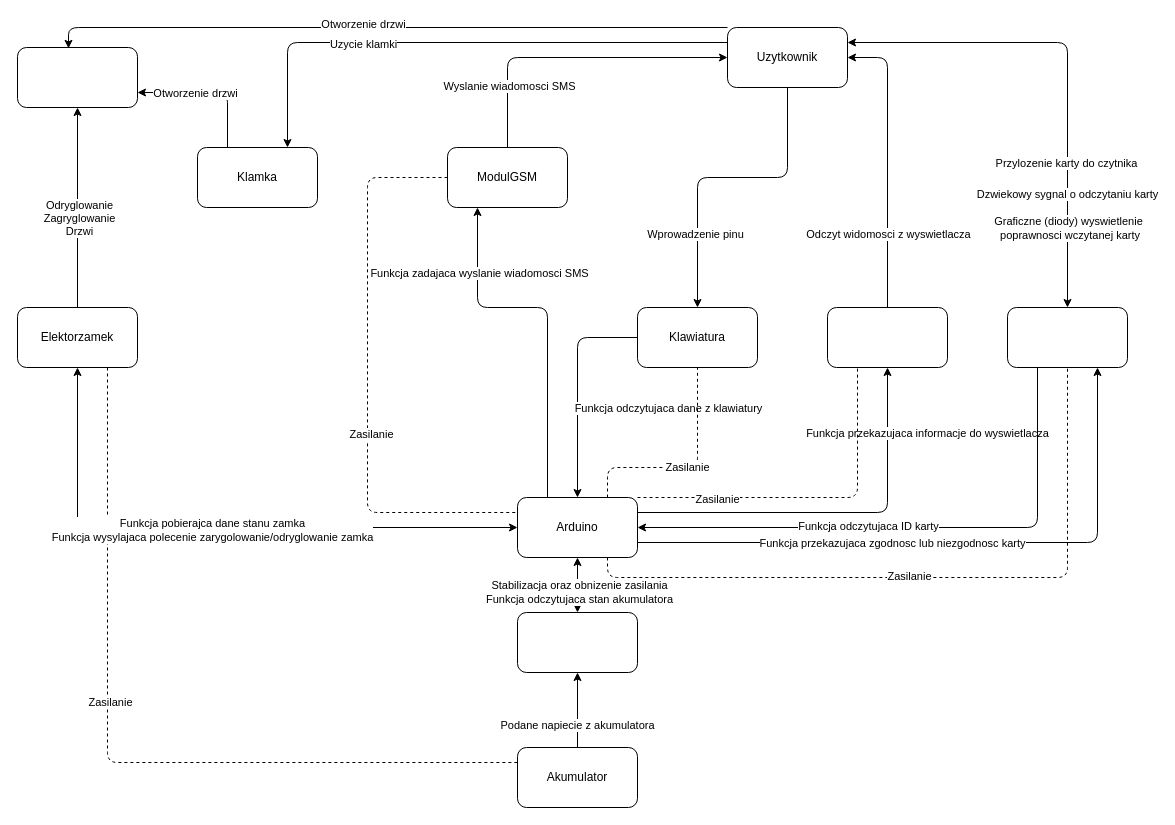
This 1175x825 diagram has some shape labels left out. Each missing label, with the centre of its shape:
"Czytnik RFID" goes at pixel 1067 337.
"Drzwi" goes at pixel 77 77.
"Uklad parametryzujacy zasilanie (stabilizator, przetwornica)" goes at pixel 577 642.
"Wyswietlacz" goes at pixel 887 337.
